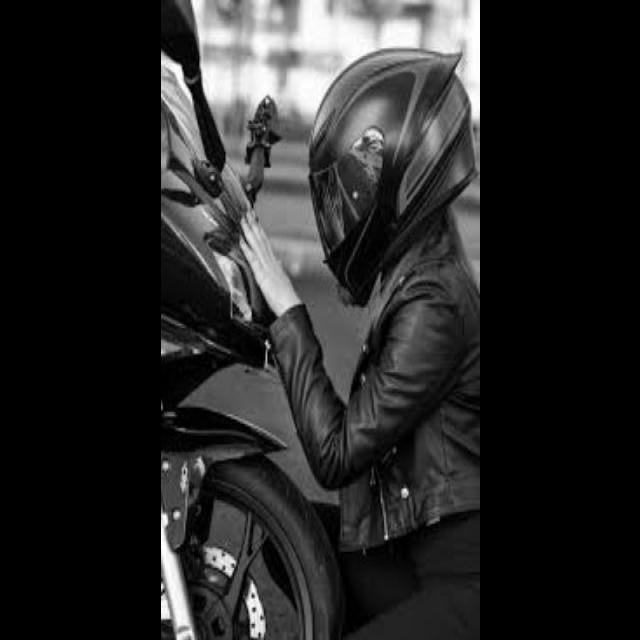5_casco: (292, 41, 478, 314)
